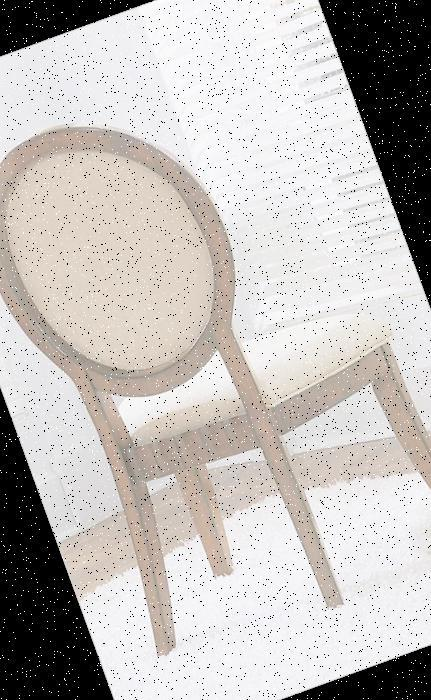Silla: (0, 45, 430, 684)
